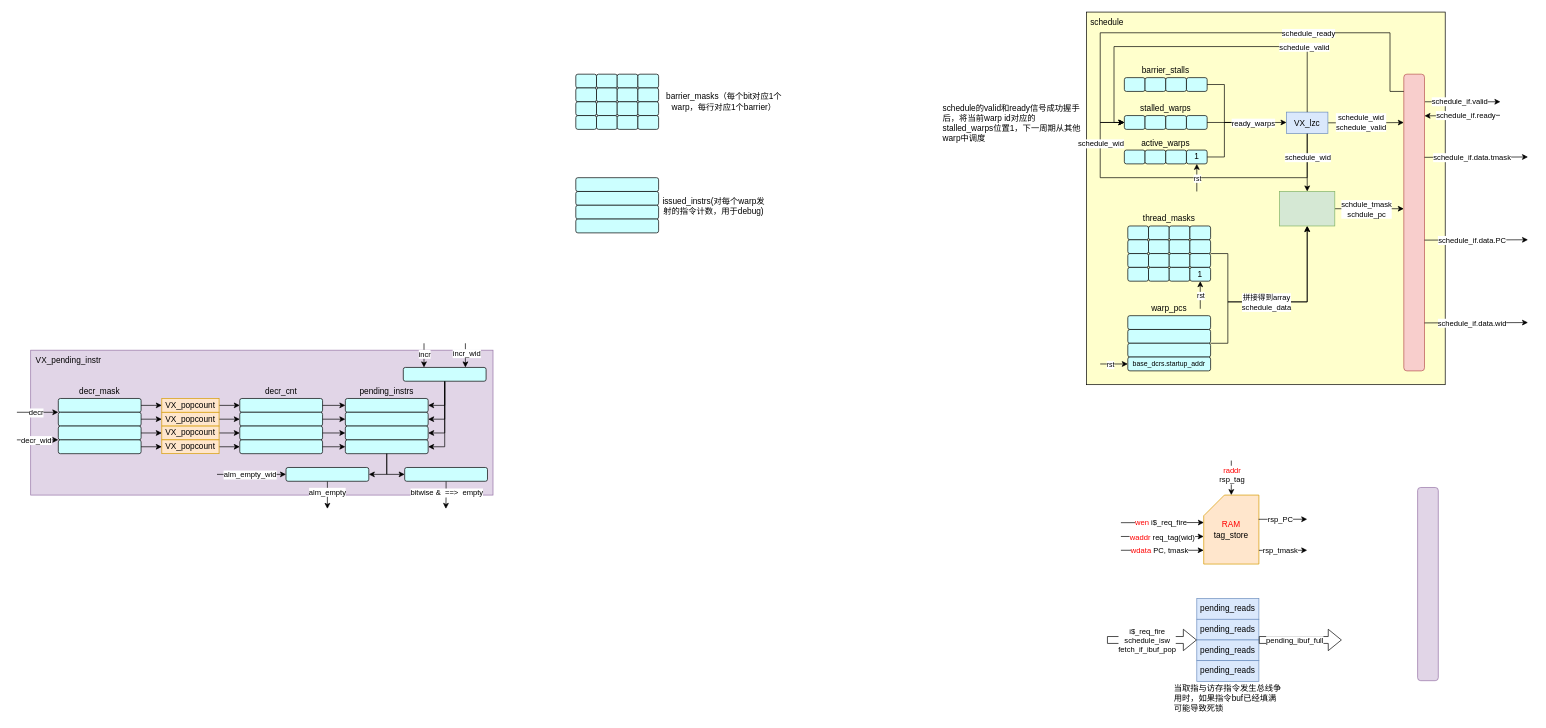
Image size: 1546x728. Some labels were removed from this diagram. The centre of each missing label's shape, as x and y in pixels:
alm_empty_r: point (327, 474)
empty_r: point (445, 474)
incr_cnt: point (444, 374)
MUX: point (1307, 208)
out_buf: point (1414, 222)
req_buf(乒乓buffer): point (1427, 584)
